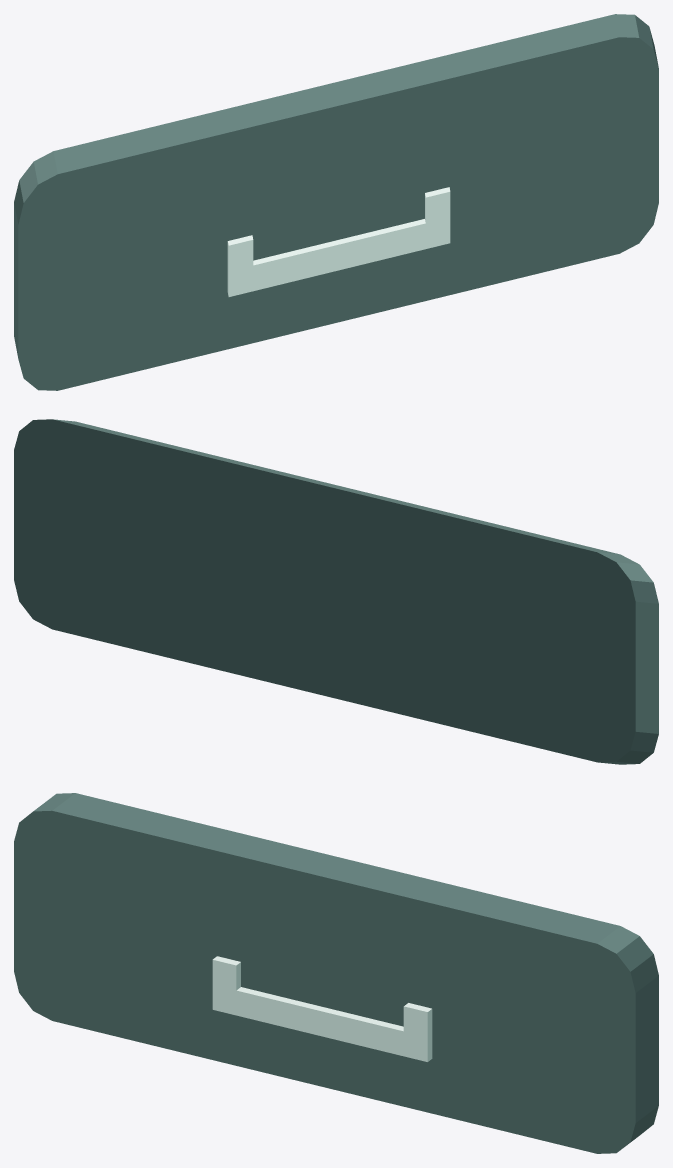
The model's file is Key_Space.gltf.
3 views of the same model, one above another, from view 1: azimuth 30°, elevation 25°; view 2: azimuth 150°, elevation 25°; view 3: azimuth 330°, elevation 25° (orthographic). The views are drawn at different scales.
Visible parts, largest first — view 1: Key_Space_baked; view 2: Key_Space_baked; view 3: Key_Space_baked.
Part boxes in pixels (bbox=[...]): Key_Space_baked: bbox=[14, 14, 658, 390]; Key_Space_baked: bbox=[14, 419, 658, 764]; Key_Space_baked: bbox=[14, 793, 658, 1153].
Bounding box in the file's own units: 2.64 × 0.88 × 0.12.
